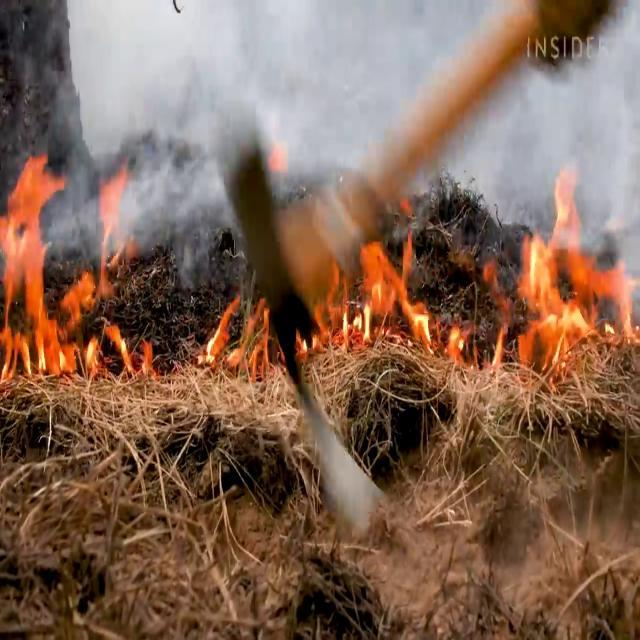Fire: (0, 150, 141, 394), (509, 176, 636, 372), (334, 228, 436, 350), (200, 290, 276, 382)
Smoke: (6, 0, 290, 262), (321, 0, 640, 233)
